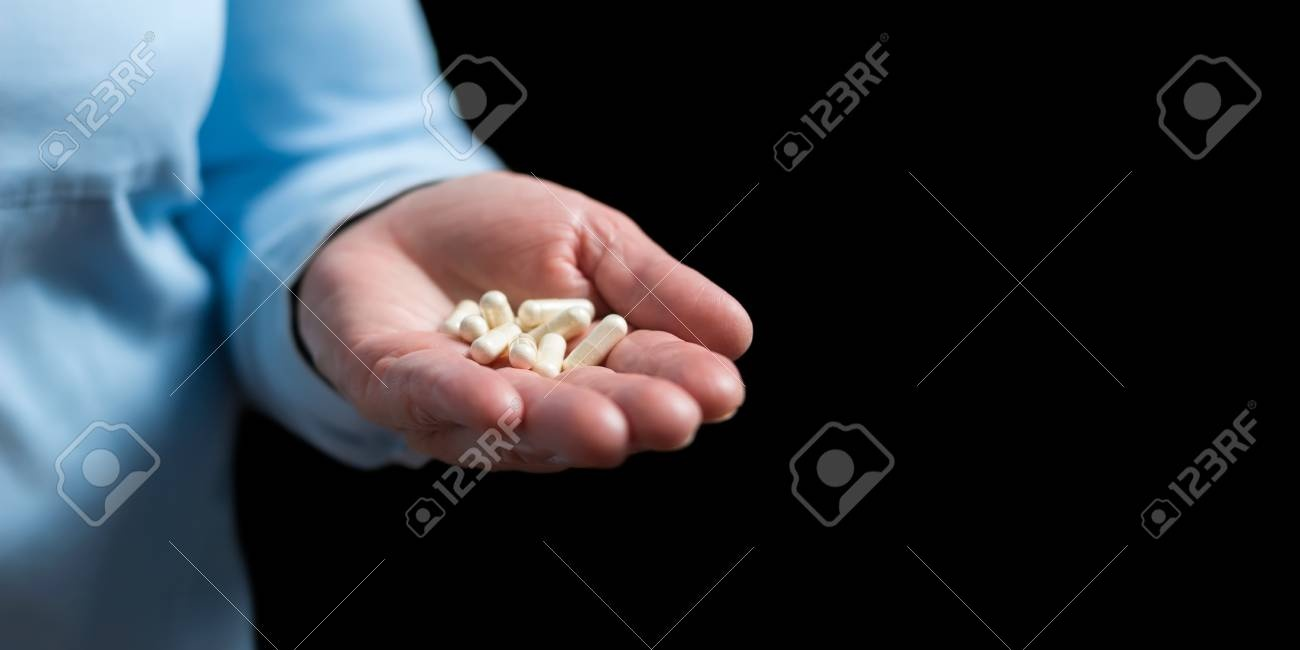pills: (563, 307, 631, 385), (519, 296, 612, 324), (470, 323, 524, 361), (535, 329, 563, 385)
